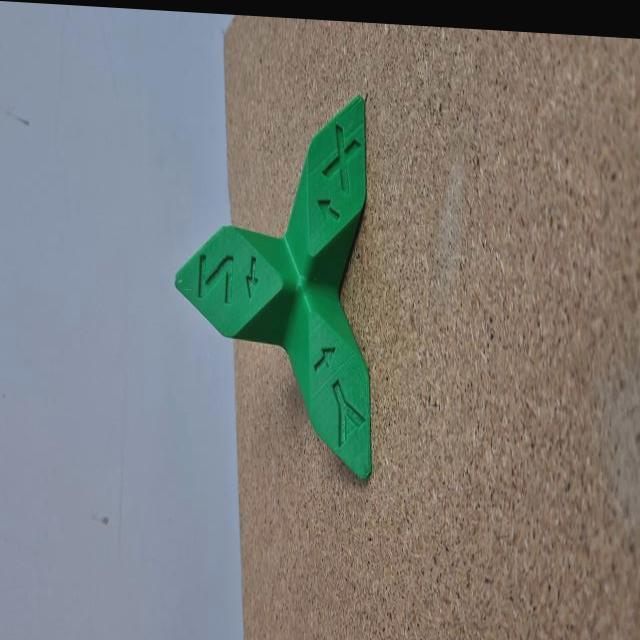eje: (170, 74, 375, 490)
